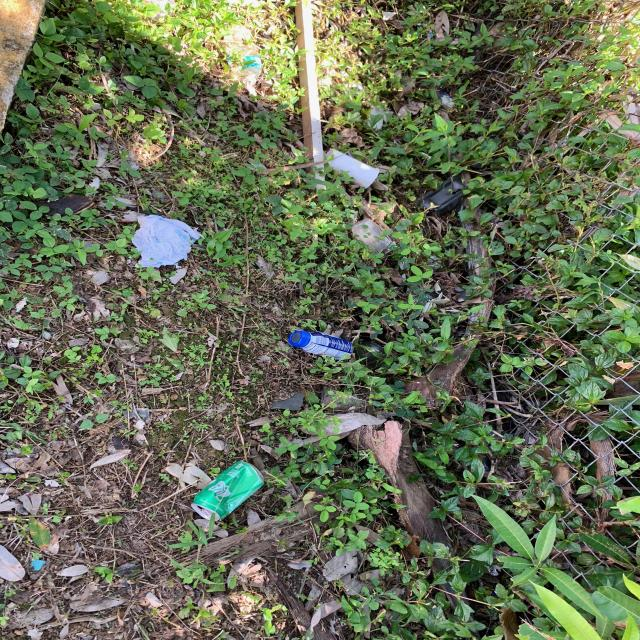litter: (107, 201, 214, 288), (174, 455, 275, 538), (312, 134, 395, 203), (280, 325, 376, 370)
